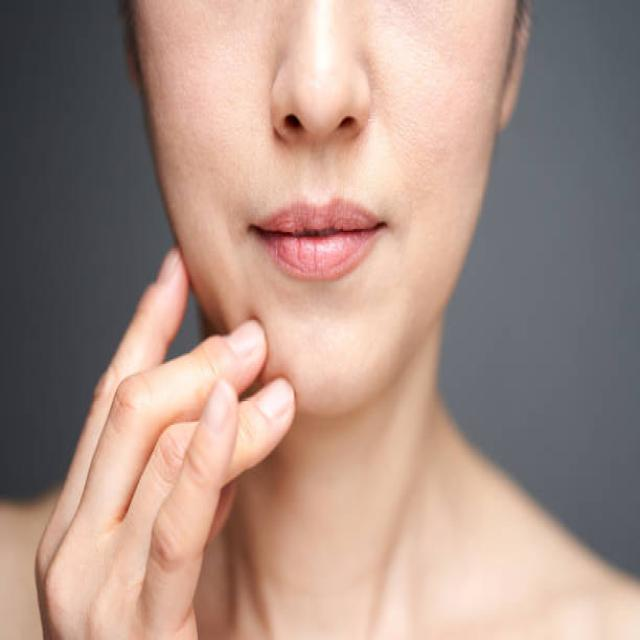Dry-Skin: (383, 5, 489, 271), (148, 28, 262, 242)
